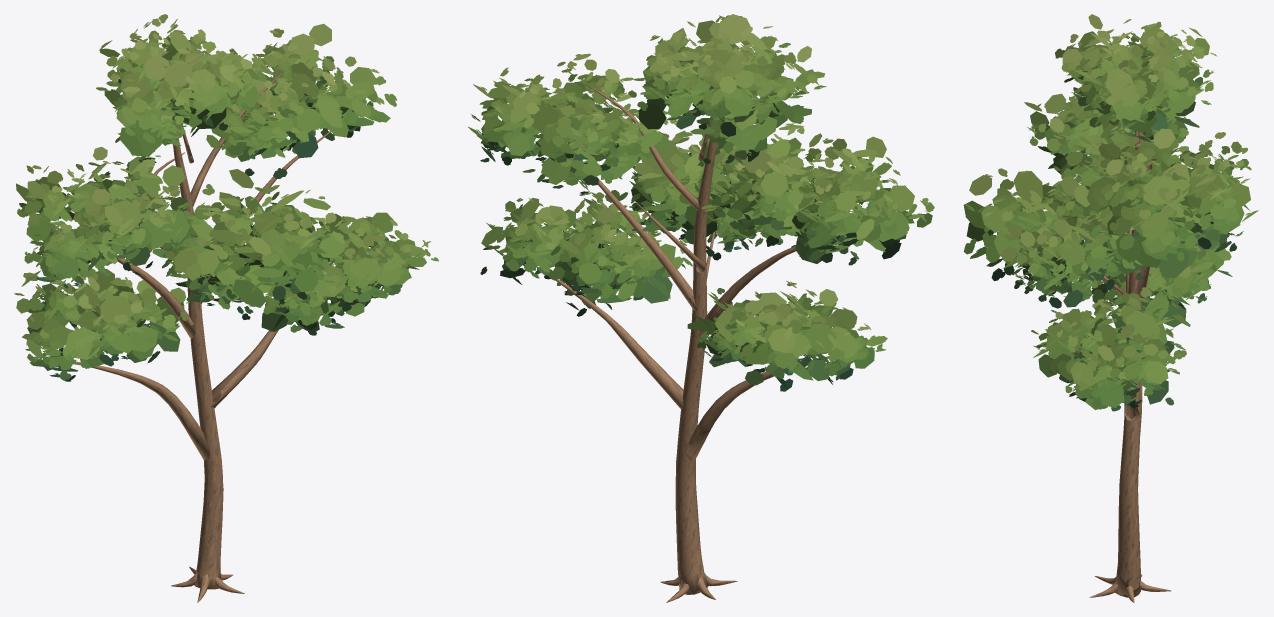
The model's file is anime-tree.glb.
3 renders of one model, left to right at view 1: azimuth 30°, elevation 25°; view 2: azimuth 150°, elevation 25°; view 3: azimuth 270°, elevation 25°, orthographic. The views are drawn at different scales.
Parts seen in each view (by area): view 1: Anime_far_leaf, Anime_near_leaf, Anime_mid_leaf, Anime_far_wood, Anime_mid_wood, Anime_near_wood; view 2: Anime_far_leaf, Anime_near_leaf, Anime_mid_leaf, Anime_far_wood, Anime_mid_wood, Anime_near_wood; view 3: Anime_far_leaf, Anime_near_leaf, Anime_mid_leaf, Anime_far_wood, Anime_mid_wood, Anime_near_wood.
Boxes of the visible parts, x1,y1,x2,y2 form: Anime_far_leaf: [16, 23, 430, 377]; Anime_near_leaf: [16, 15, 438, 380]; Anime_mid_leaf: [14, 14, 438, 381]; Anime_far_wood: [76, 74, 330, 602]; Anime_mid_wood: [64, 73, 330, 602]; Anime_near_wood: [66, 76, 334, 600]; Anime_far_leaf: [468, 14, 932, 391]; Anime_near_leaf: [471, 15, 934, 388]; Anime_mid_leaf: [471, 15, 931, 387]; Anime_far_wood: [577, 85, 828, 602]; Anime_mid_wood: [555, 84, 853, 602]; Anime_near_wood: [540, 84, 853, 599]; Anime_far_leaf: [963, 14, 1258, 409]; Anime_near_leaf: [965, 19, 1251, 411]; Anime_mid_leaf: [963, 18, 1256, 411]; Anime_far_wood: [1084, 132, 1170, 601]; Anime_mid_wood: [1076, 132, 1188, 602]; Anime_near_wood: [1047, 131, 1196, 600].
Bounding box in the file's own units: 4.63 × 5.97 × 2.93.
2 materials, 1 textured.
